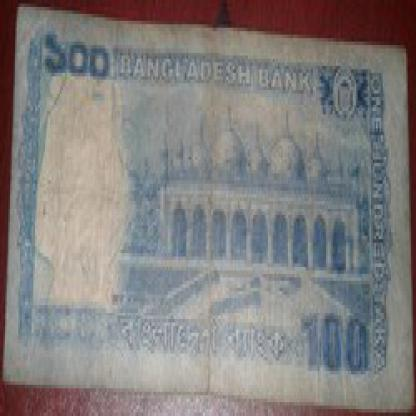one hundred taka: (300, 305, 372, 385), (43, 21, 115, 94)
